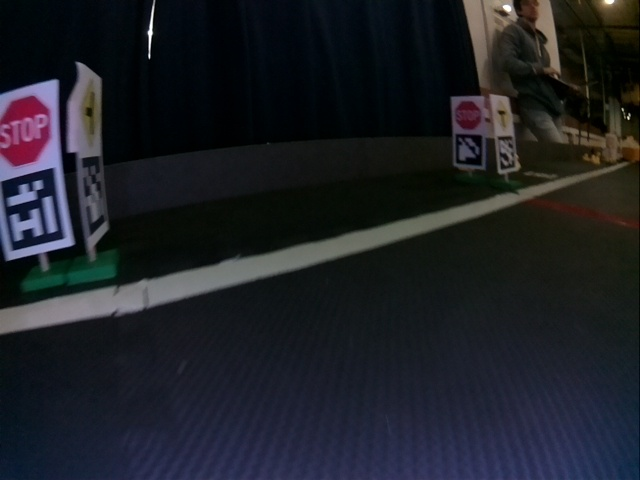Intersection sign: (494, 97, 513, 133)
QR code: (1, 168, 65, 250), (82, 155, 108, 234), (455, 136, 483, 166), (496, 135, 516, 170)
Stop sign: (1, 93, 55, 166), (452, 98, 483, 130)
